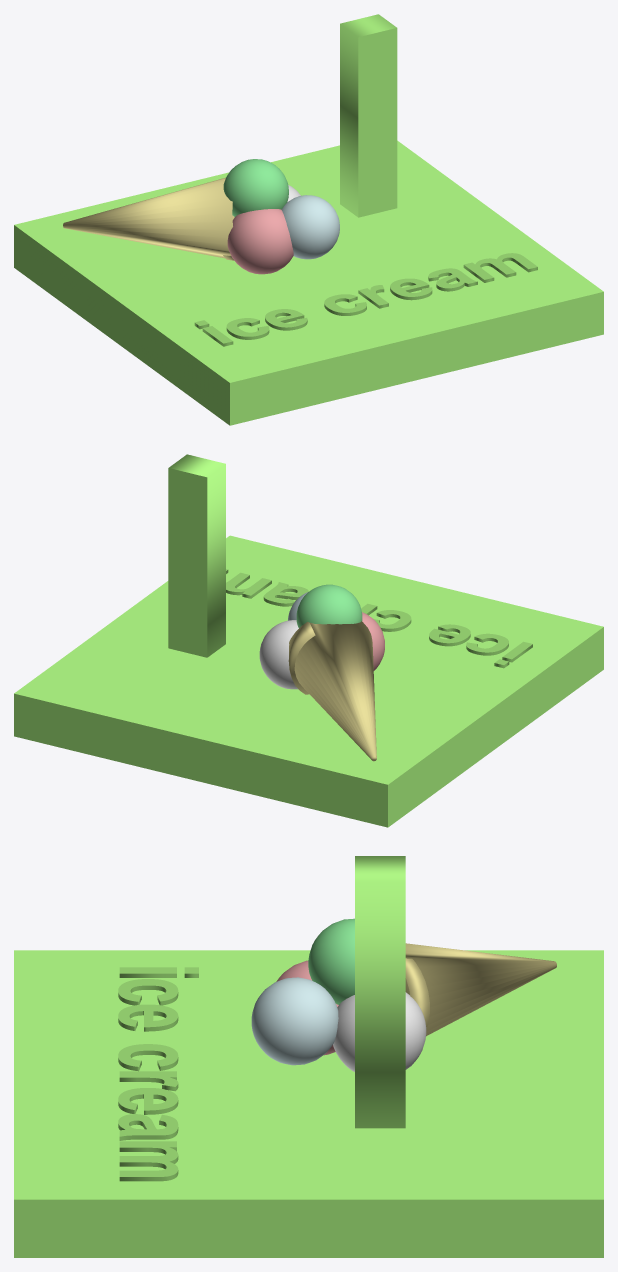
The model's file is iletter.glb.
3 renders of one model, top to bottom at view 1: azimuth 30°, elevation 25°; view 2: azimuth 150°, elevation 25°; view 3: azimuth 270°, elevation 25°, orthographic. The views are drawn at different scales.
Parts seen in each view (by area): view 1: Cube.022, Cylinder, Text.003, Text.002; view 2: Cube.022, Cylinder, Text.003, Text.002; view 3: Cube.022, Cylinder, Text.003, Text.002.
Boxes of the visible parts, x1,y1,x2,y2 form: Cube.022: (14, 140, 603, 425); Cylinder: (63, 159, 339, 274); Text.003: (340, 14, 397, 217); Text.002: (194, 253, 537, 346); Cube.022: (14, 535, 603, 827); Cylinder: (259, 584, 384, 761); Text.003: (168, 454, 225, 657); Text.002: (226, 569, 532, 668); Cube.022: (14, 950, 603, 1257); Cylinder: (251, 918, 556, 1071); Text.003: (355, 856, 405, 1128); Text.002: (118, 967, 198, 1181).
Bounding box in the file's own units: 0.3237 × 0.1946 × 0.3237.
